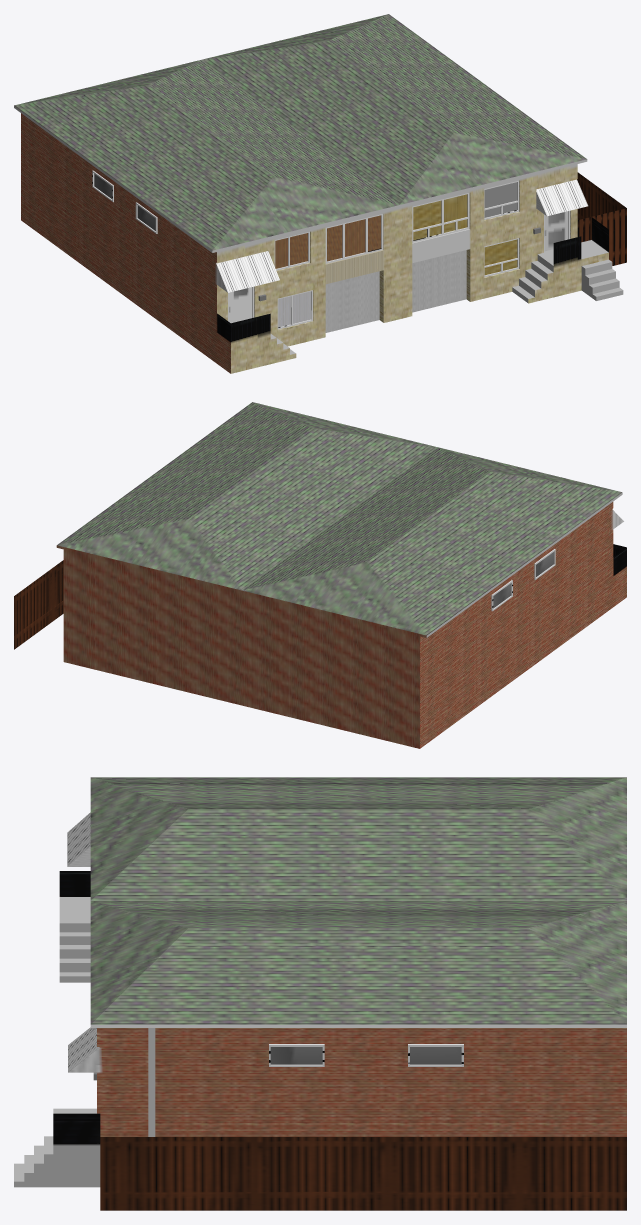
Rendered from Residential House 15.fbx.
The picture shows the model from 3 angles, top to bottom: view 1: azimuth 30°, elevation 25°; view 2: azimuth 150°, elevation 25°; view 3: azimuth 270°, elevation 25°; orthographic projection. The views are drawn at different scales.
Parts seen in each view (by area): view 1: Residential House 15; view 2: Residential House 15; view 3: Residential House 15.
Part boxes in pixels (x1=…): Residential House 15: x1=14, y1=14, x2=626, y2=373; Residential House 15: x1=14, y1=402, x2=626, y2=748; Residential House 15: x1=14, y1=777, x2=626, y2=1210.
Bounding box in the file's own units: 1975 × 633 × 1855.
1 material, 1 textured.
